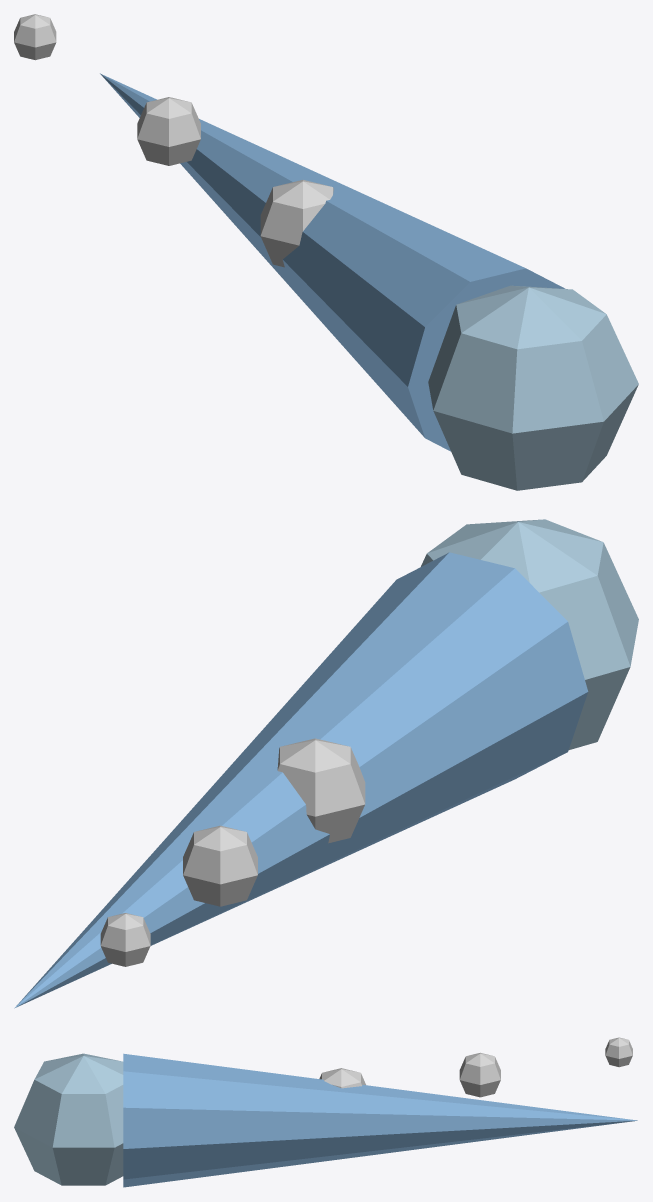
The model's file is comet.glb.
The picture shows the model from 3 angles, top to bottom: view 1: azimuth 30°, elevation 25°; view 2: azimuth 150°, elevation 25°; view 3: azimuth 270°, elevation 25°; orthographic projection. The views are drawn at different scales.
Parts seen in each view (by area): view 1: comet; view 2: comet; view 3: comet.
Part boxes in pixels (box(x1,y1,x2,y2)): comet: box(14, 14, 638, 490); comet: box(14, 519, 638, 1008); comet: box(14, 1037, 637, 1187).
Size of the model in its own units: 0.36 by 0.36 by 1.58.
